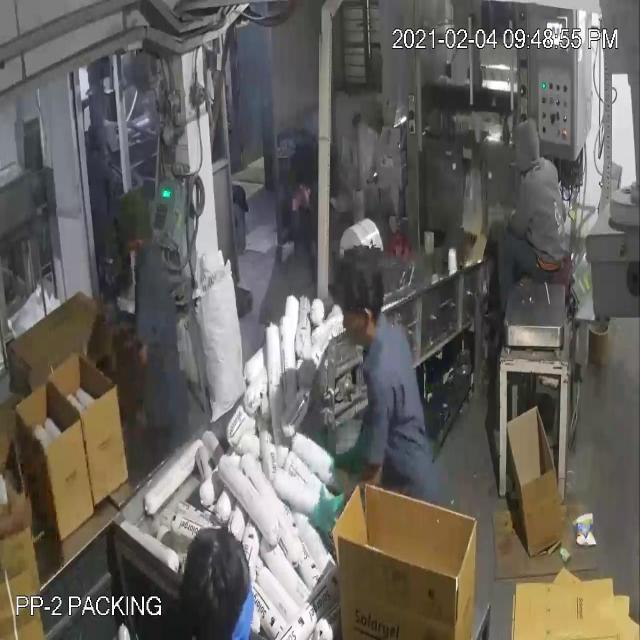Gloves: (298, 471, 356, 550)
